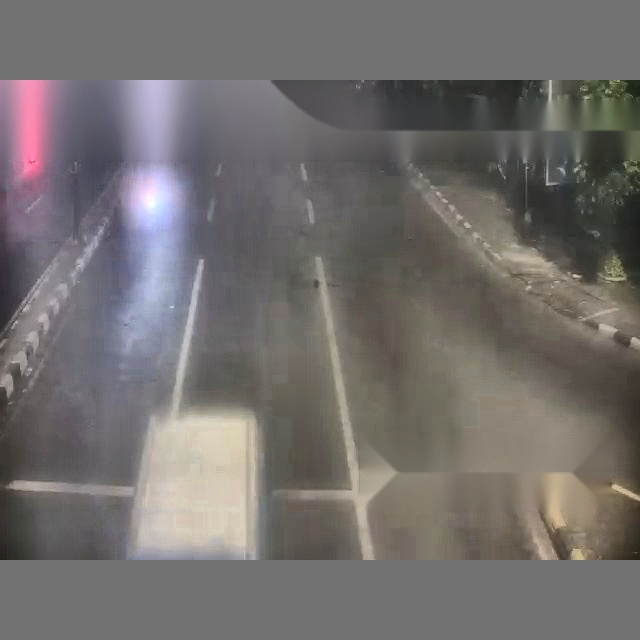Truk: (189, 105, 640, 558)
